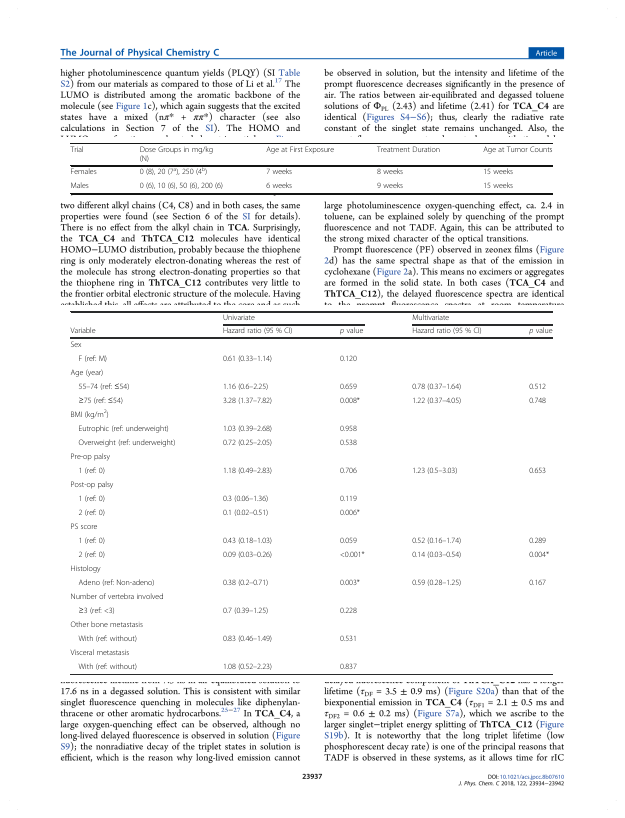borderless: (69, 310, 553, 674), (69, 142, 552, 193)
cell: (139, 146, 214, 164), (77, 438, 176, 448), (70, 592, 164, 602), (77, 424, 170, 434), (139, 182, 224, 192), (139, 166, 208, 178), (77, 578, 155, 588), (70, 620, 144, 630), (411, 327, 483, 337), (222, 327, 293, 337), (482, 146, 553, 155), (265, 146, 335, 155), (77, 634, 138, 644), (77, 662, 138, 672), (70, 648, 130, 658), (376, 146, 441, 155), (77, 382, 130, 392), (222, 354, 273, 364), (411, 382, 462, 392), (222, 396, 273, 406), (411, 396, 462, 406), (222, 424, 273, 434), (222, 438, 273, 448), (222, 466, 273, 476), (222, 536, 273, 546), (411, 536, 462, 546), (222, 550, 273, 560), (411, 550, 462, 560), (411, 578, 462, 588), (222, 634, 273, 644), (222, 662, 273, 672), (222, 382, 269, 392), (77, 396, 124, 406), (411, 466, 458, 476), (222, 494, 269, 504), (222, 508, 269, 518), (222, 578, 269, 588), (222, 606, 269, 616), (70, 409, 110, 420), (70, 480, 114, 490), (70, 452, 111, 462), (77, 606, 116, 616), (411, 314, 450, 323), (70, 368, 104, 378), (482, 168, 514, 178), (482, 182, 514, 192), (77, 354, 108, 364), (70, 564, 101, 574), (222, 314, 256, 323), (77, 466, 106, 476), (77, 494, 106, 504), (77, 508, 106, 518), (77, 536, 106, 546), (77, 550, 106, 560), (70, 522, 98, 532), (265, 168, 293, 178), (376, 168, 404, 178), (265, 182, 293, 192), (376, 182, 404, 192), (339, 550, 366, 560), (70, 168, 97, 178), (70, 327, 96, 337), (339, 327, 364, 337), (528, 327, 553, 337), (339, 396, 361, 406), (339, 508, 361, 518), (528, 550, 550, 560), (339, 578, 361, 588), (69, 182, 90, 192), (339, 354, 358, 364), (339, 382, 358, 392), (528, 382, 547, 392), (528, 396, 547, 406), (339, 424, 358, 434), (339, 438, 358, 448), (339, 466, 358, 476), (528, 466, 547, 476), (339, 494, 358, 504), (339, 536, 358, 546), (528, 536, 547, 546), (528, 578, 547, 588), (339, 606, 358, 616), (339, 634, 358, 644), (339, 662, 358, 672), (70, 146, 84, 155), (70, 340, 82, 350)
